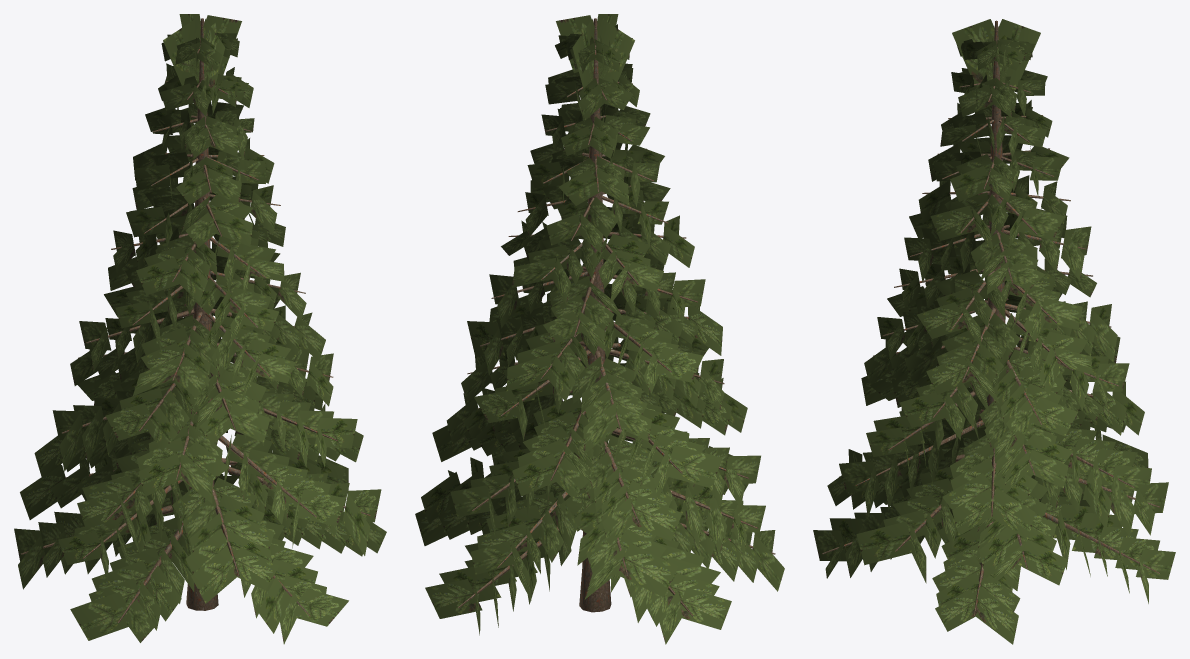
File: pine_2.glb
3 views of the same model, side by side, from view 1: azimuth 30°, elevation 25°; view 2: azimuth 150°, elevation 25°; view 3: azimuth 270°, elevation 25° (orthographic). The views are drawn at different scales.
Parts seen in each view (by area): view 1: Pine; view 2: Pine; view 3: Pine.
Part boxes in pixels (left/top/right/bottom): Pine: left=14, top=14, right=386, bottom=644; Pine: left=415, top=14, right=784, bottom=644; Pine: left=813, top=19, right=1175, bottom=644.
Bounding box in the file's own units: 7.09 × 12.1 × 6.93.
Materials: 2 (2 with a texture image).
